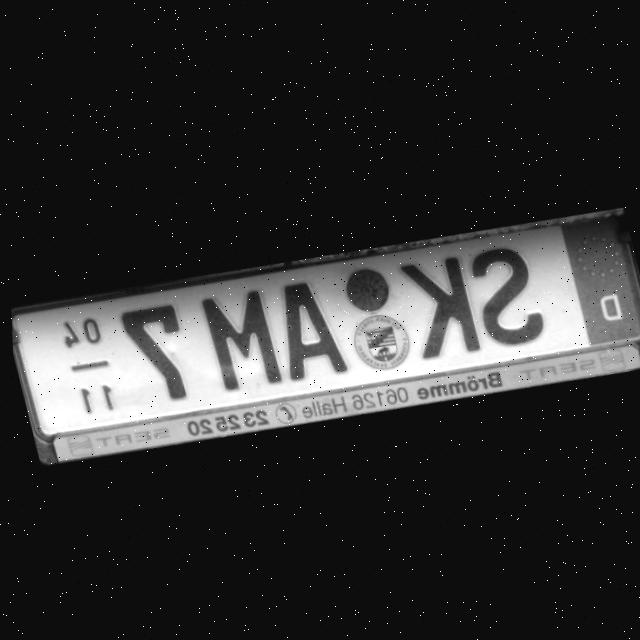license-plates: (12, 217, 640, 438)
